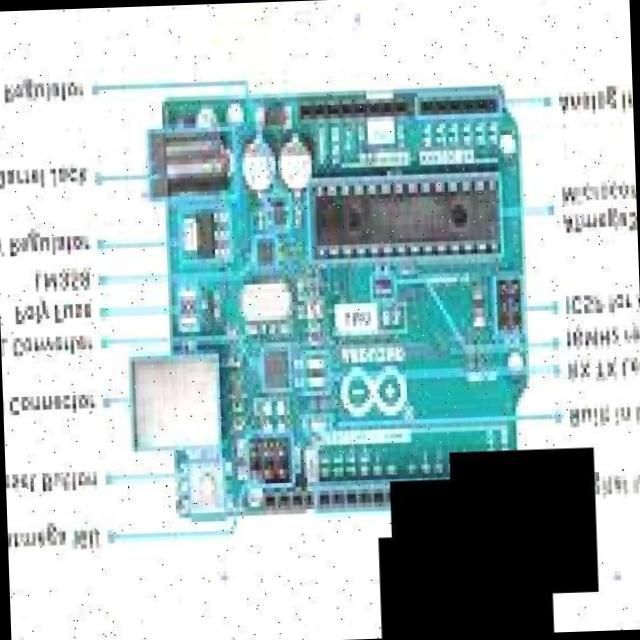arduino: (157, 94, 521, 523)
